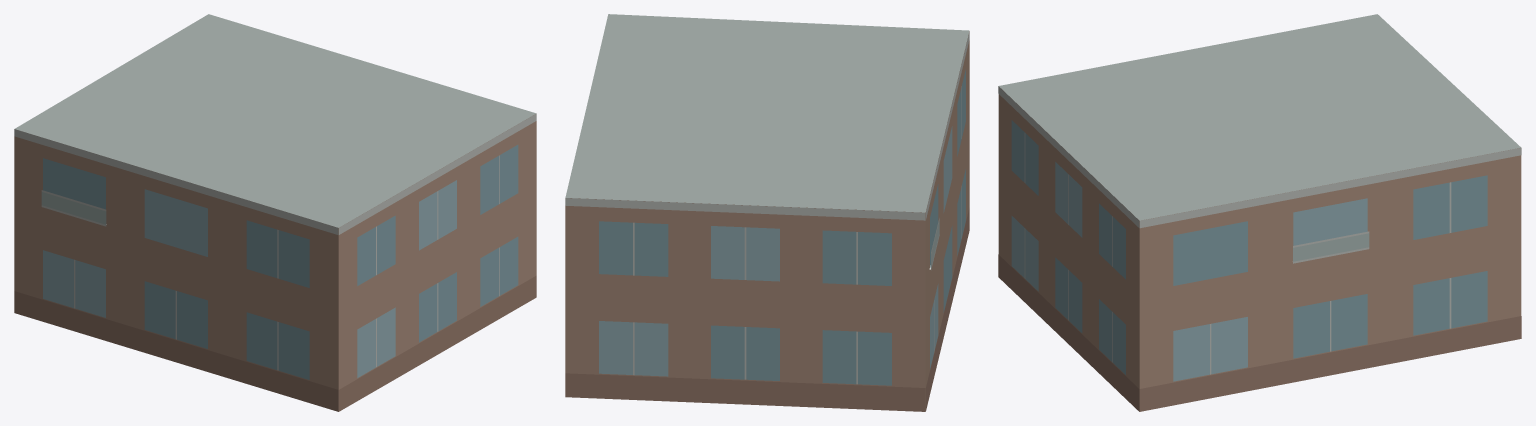
The model's file is survey-upis-32749301.glb.
The picture shows the model from 3 angles, left to right: view 1: azimuth 30°, elevation 25°; view 2: azimuth 150°, elevation 25°; view 3: azimuth 270°, elevation 25°; orthographic projection. The views are drawn at different scales.
Parts seen in each view (by area): view 1: survey-upis-32749301.tmp; view 2: survey-upis-32749301.tmp; view 3: survey-upis-32749301.tmp.
Part boxes in pixels (<box>): survey-upis-32749301.tmp: <box>14,14,536,411</box>; survey-upis-32749301.tmp: <box>565,14,969,411</box>; survey-upis-32749301.tmp: <box>998,14,1521,411</box>.
Size of the model in its own units: 14.15 by 6.1 by 15.13.
